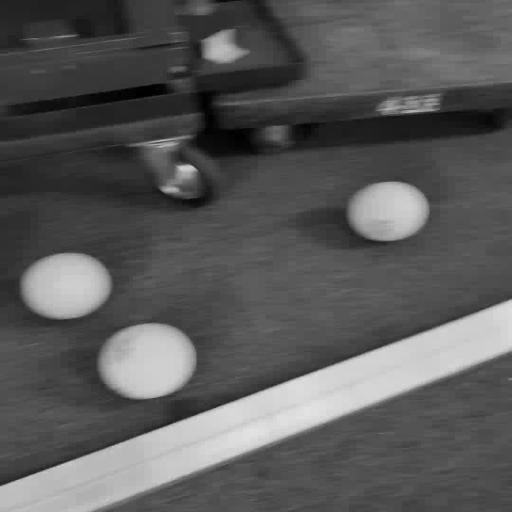fuel: (98, 323, 196, 400), (20, 253, 111, 320), (347, 182, 429, 242)
